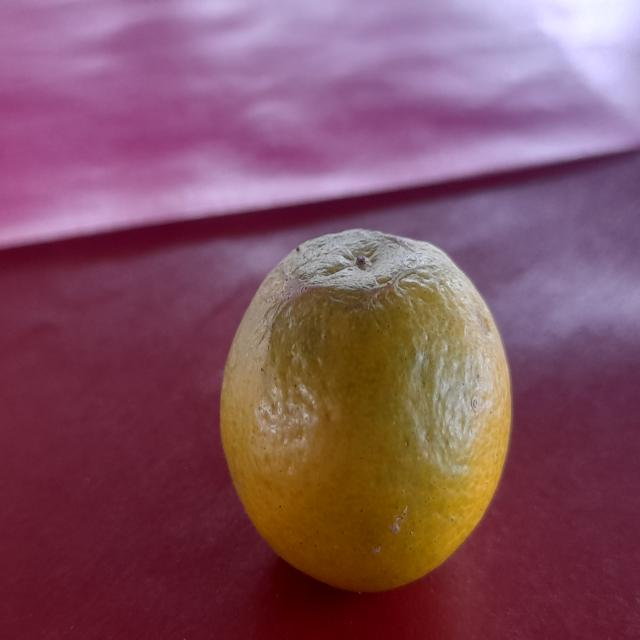greening: (218, 227, 517, 600)
